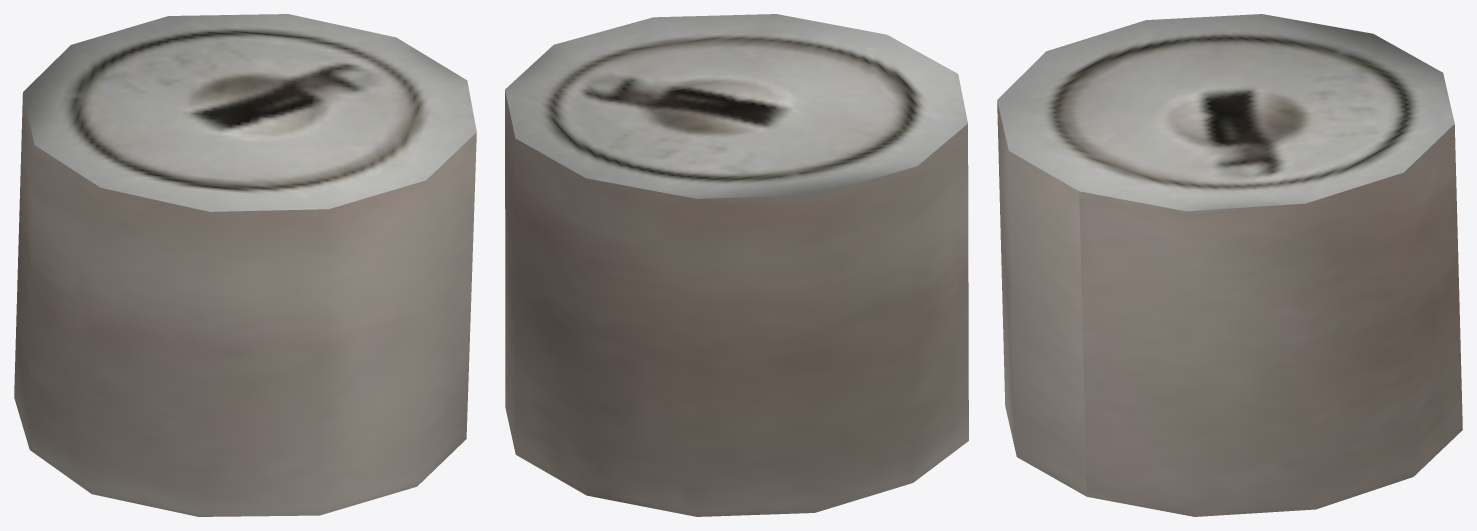
Rendered from Unity2Skfb.gltf.
3 views of the same model, side by side, from view 1: azimuth 30°, elevation 25°; view 2: azimuth 150°, elevation 25°; view 3: azimuth 270°, elevation 25° (orthographic).
Parts seen in each view (by area): view 1: node_A13_kong_-192526; view 2: node_A13_kong_-192526; view 3: node_A13_kong_-192526.
Boxes of the visible parts, x1,y1,x2,y2 form: node_A13_kong_-192526: (14, 14, 476, 516); node_A13_kong_-192526: (505, 14, 968, 516); node_A13_kong_-192526: (997, 14, 1462, 516).
Size of the model in its own units: 0.0261 by 0.0201 by 0.0265.
Materials: 1 (1 with a texture image).
